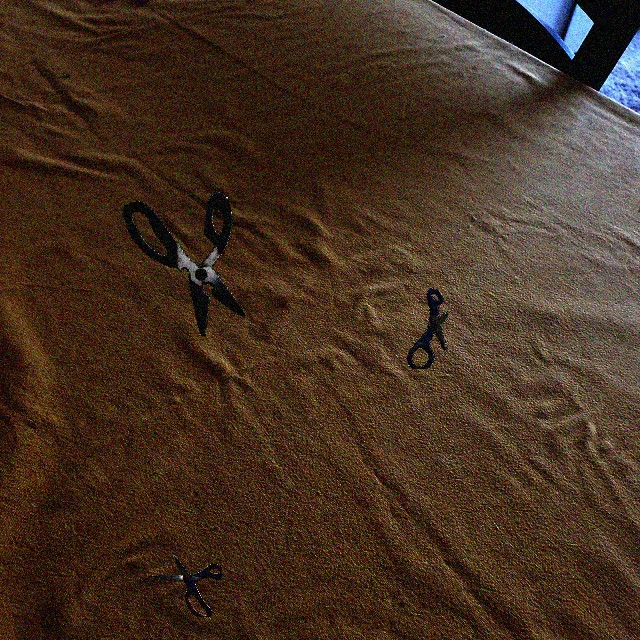scissors: (122, 191, 245, 336), (151, 555, 222, 617), (406, 288, 448, 369)
